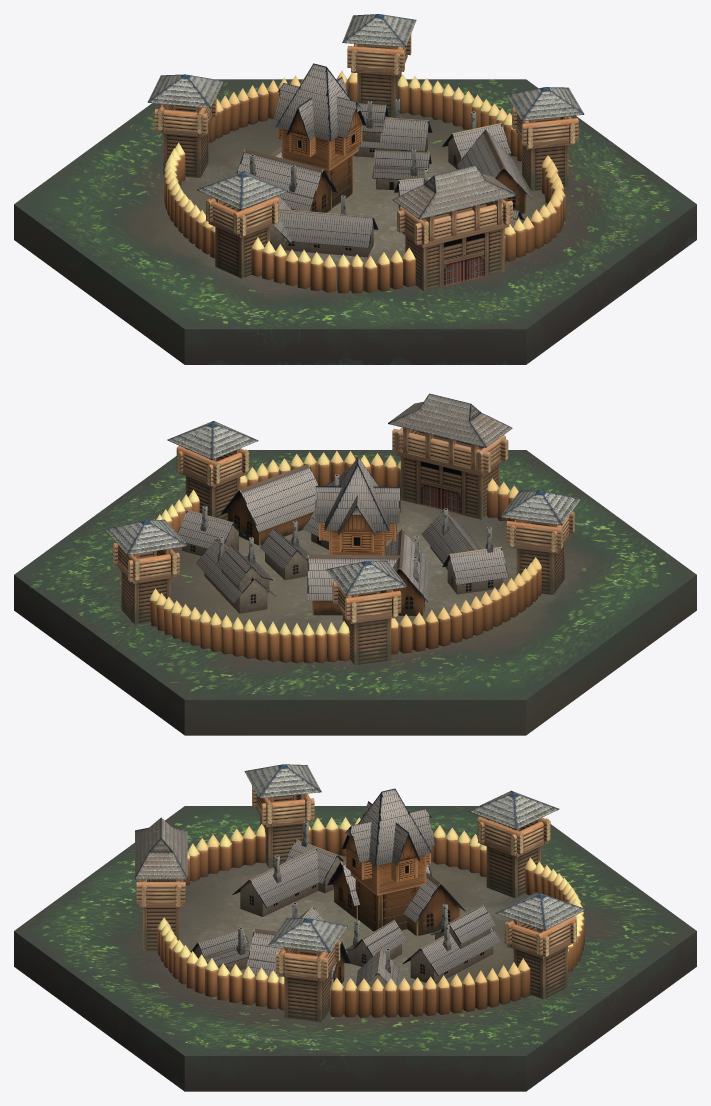
Rendered from Town_basic_final.fbx.
3 renders of one model, top to bottom at view 1: azimuth 30°, elevation 25°; view 2: azimuth 150°, elevation 25°; view 3: azimuth 270°, elevation 25°, orthographic.
Visible parts, largest first — view 1: Tile_town_basic, Castle1_low.001, Gate1_low, Palisade_low.001, Tower2_low.003, Tower2_low, Tower2_low.001, Tower2_low.002, House2_low.001, Palisade_low.002, Palisade_low.003, Palisade_low (+5 smaller); view 2: Tile_town_basic, Castle1_low.001, Gate1_low, Palisade_low.003, Tower2_low.002, Palisade_low.005, Tower2_low.001, Tower2_low, Tower2_low.003, House2_low.001, Palisade_low, House3_low.002 (+5 smaller); view 3: Tile_town_basic, Castle1_low.001, Palisade_low.002, Tower2_low.002, Tower2_low.001, Tower2_low, Gate1_low, Tower2_low.003, Palisade_low, House2_low.001, Palisade_low.005, Palisade_low.001 (+6 smaller).
Boxes of the visible parts, x1,y1,x2,y2 form: Tile_town_basic: [14, 79, 696, 364]; Castle1_low.001: [236, 63, 531, 213]; Gate1_low: [392, 165, 517, 291]; Palisade_low.001: [251, 237, 415, 293]; Tower2_low.003: [197, 171, 287, 278]; Tower2_low: [506, 87, 584, 190]; Tower2_low.001: [342, 14, 416, 117]; Tower2_low.002: [147, 74, 223, 177]; House2_low.001: [270, 195, 378, 257]; Palisade_low.002: [397, 74, 521, 161]; Palisade_low.003: [208, 70, 357, 143]; Palisade_low: [504, 160, 565, 263]; Tile_town_basic: [14, 450, 696, 735]; Castle1_low.001: [220, 457, 430, 615]; Gate1_low: [388, 393, 512, 519]; Palisade_low.003: [150, 588, 350, 663]; Tower2_low.002: [326, 560, 407, 664]; Palisade_low.005: [391, 557, 541, 654]; Tower2_low.001: [105, 519, 187, 624]; Tower2_low: [167, 421, 258, 520]; Tower2_low.003: [500, 490, 580, 594]; House2_low.001: [421, 508, 508, 594]; Palisade_low: [240, 451, 400, 495]; House3_low.002: [196, 536, 275, 613]; Tile_town_basic: [14, 806, 696, 1091]; Castle1_low.001: [246, 788, 465, 983]; Palisade_low.002: [330, 958, 530, 1017]; Tower2_low.002: [468, 790, 559, 898]; Tower2_low.001: [495, 892, 585, 999]; Tower2_low: [268, 918, 347, 1022]; Gate1_low: [135, 817, 187, 951]; Tower2_low.003: [244, 764, 321, 867]; Palisade_low: [157, 917, 278, 1009]; House2_low.001: [232, 821, 343, 916]; Palisade_low.005: [308, 817, 486, 876]; Palisade_low.001: [183, 824, 265, 885].
Size of the model in its own units: 524 by 164 by 605.
